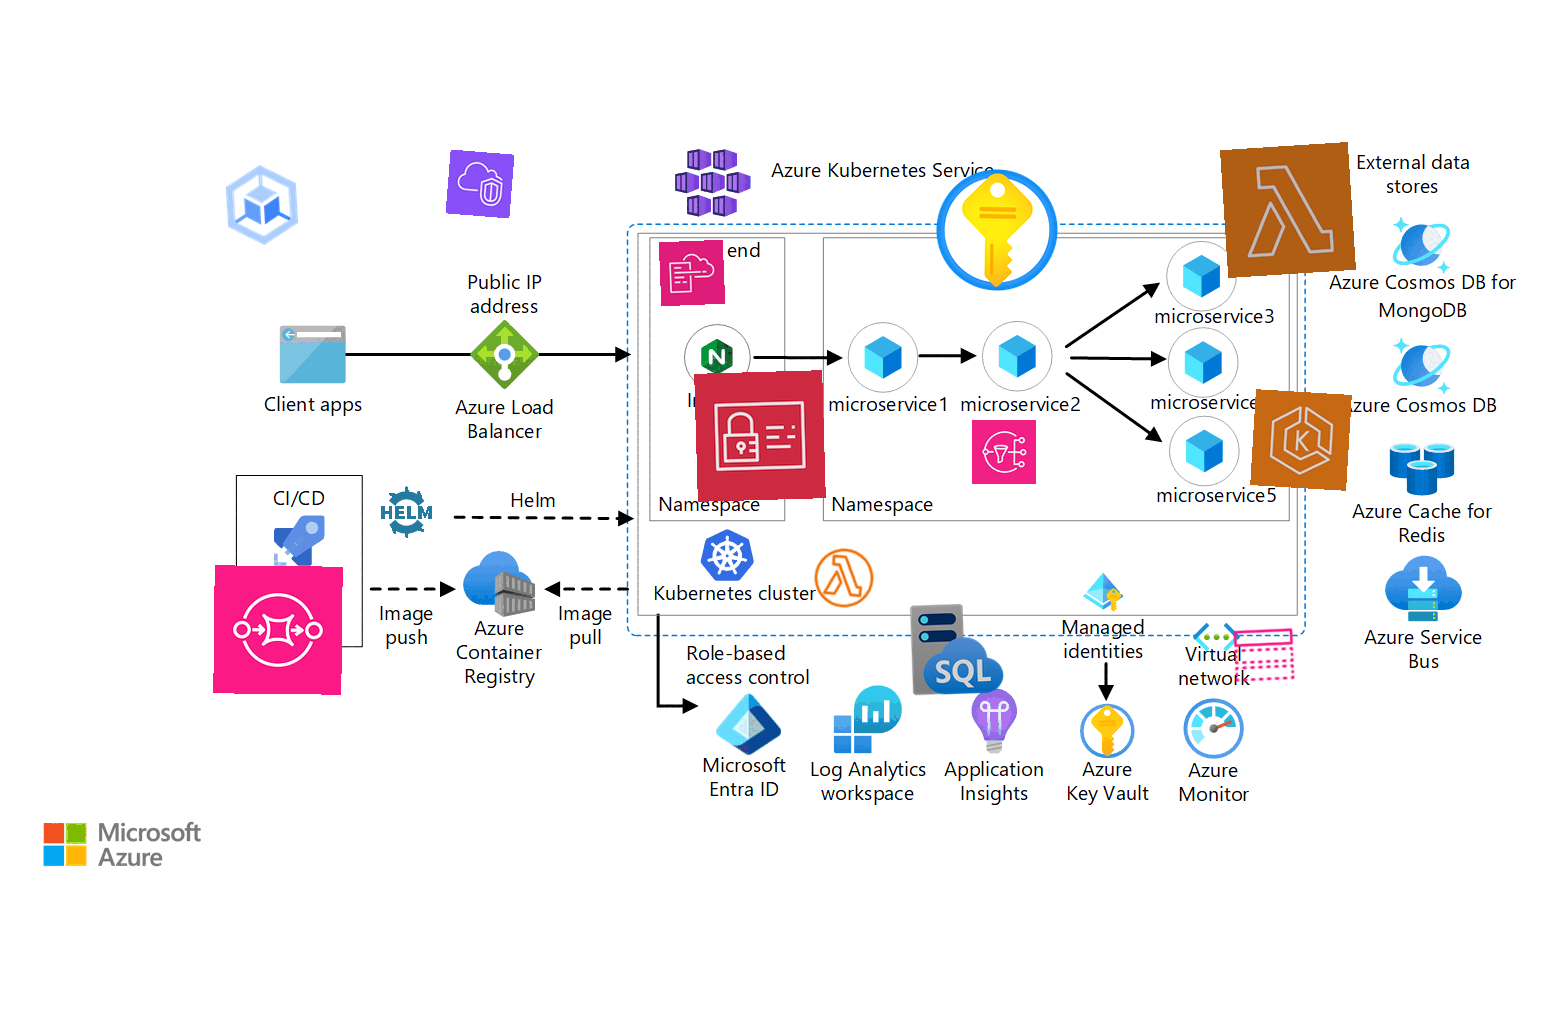aws_amazon_elastic_kubernetes_service: (1250, 389, 1352, 491)
aws_amazon_simple_notification_service: (970, 420, 1037, 485)
aws_amazon_simple_queue_service: (213, 565, 343, 695)
aws_amazon_virtual_private_cloud: (445, 149, 514, 219)
aws_cloudformation: (658, 240, 726, 307)
aws_identity_and_access_management: (694, 370, 826, 502)
aws_lambda: (1220, 142, 1357, 279)
aws_lambda_lambda_function: (809, 543, 879, 613)
aws_simple_notification_service_topic: (1231, 621, 1298, 689)
azure_key_vaults: (931, 164, 1063, 296)
azure_sql_managed_instance: (907, 599, 1007, 699)
gcp_google_kubernetes_engine: (211, 154, 313, 256)
